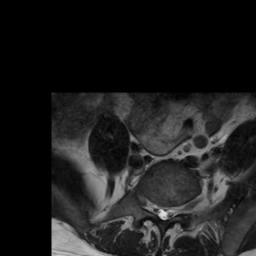CCS_stenosis: (160, 198, 167, 226)
LFS_normal: (175, 197, 183, 220)
LLS_normal: (167, 199, 175, 223)
RFS_normal: (146, 192, 153, 218)
RLS_normal: (153, 197, 160, 220)
